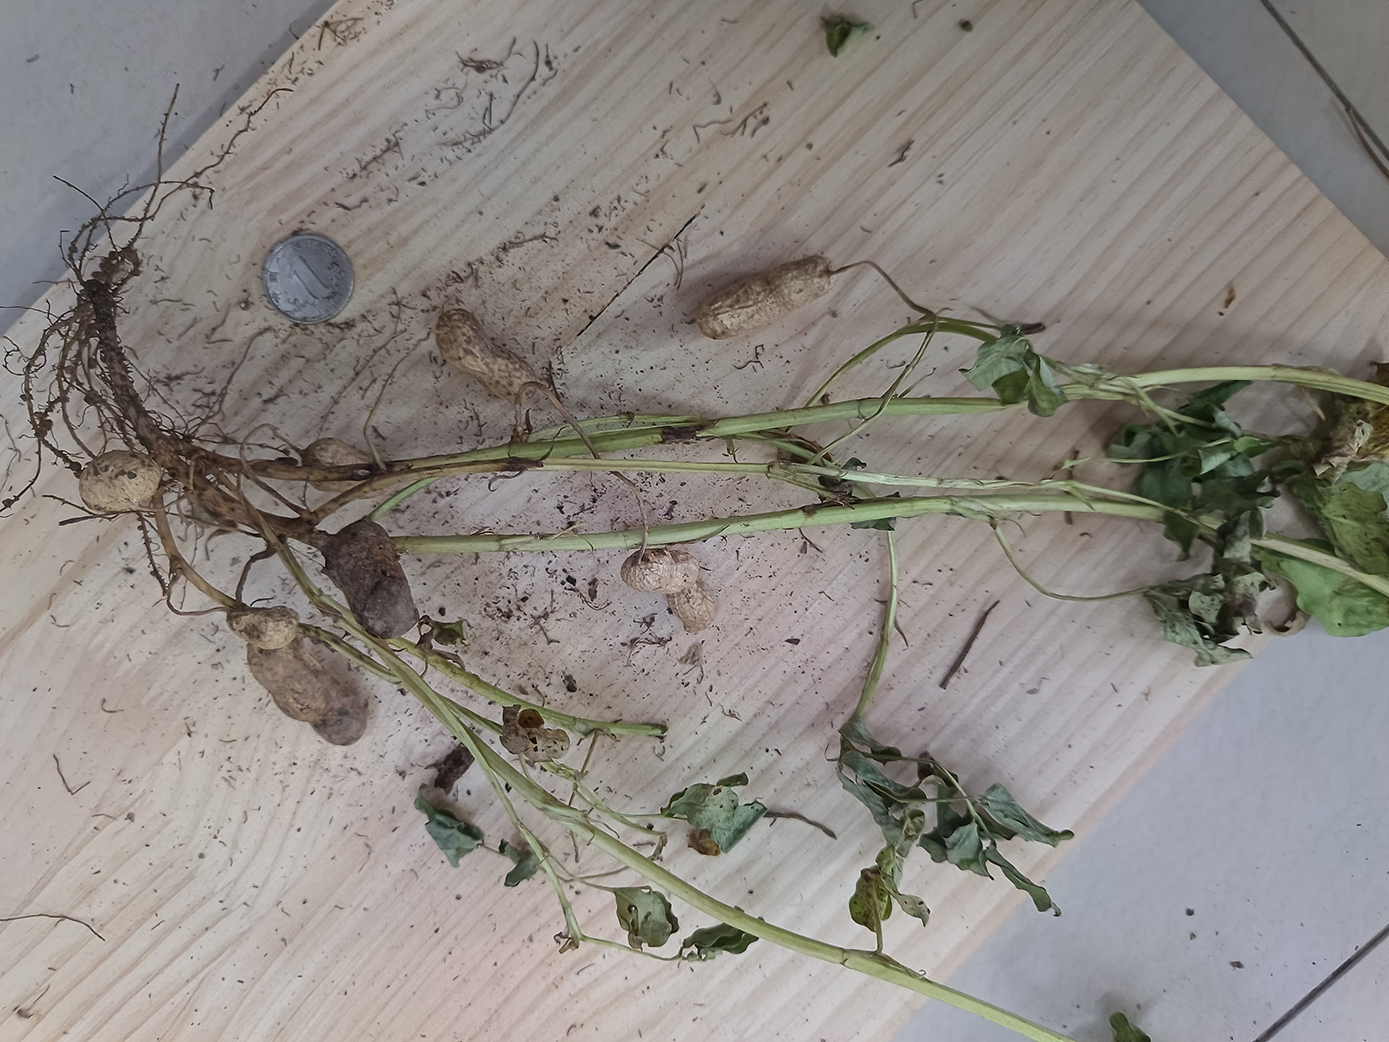h: (696, 256, 837, 338), (436, 306, 537, 407), (621, 548, 718, 634), (303, 439, 404, 496), (80, 451, 160, 511), (227, 606, 302, 650)
l: (248, 644, 369, 748), (326, 522, 418, 638)
